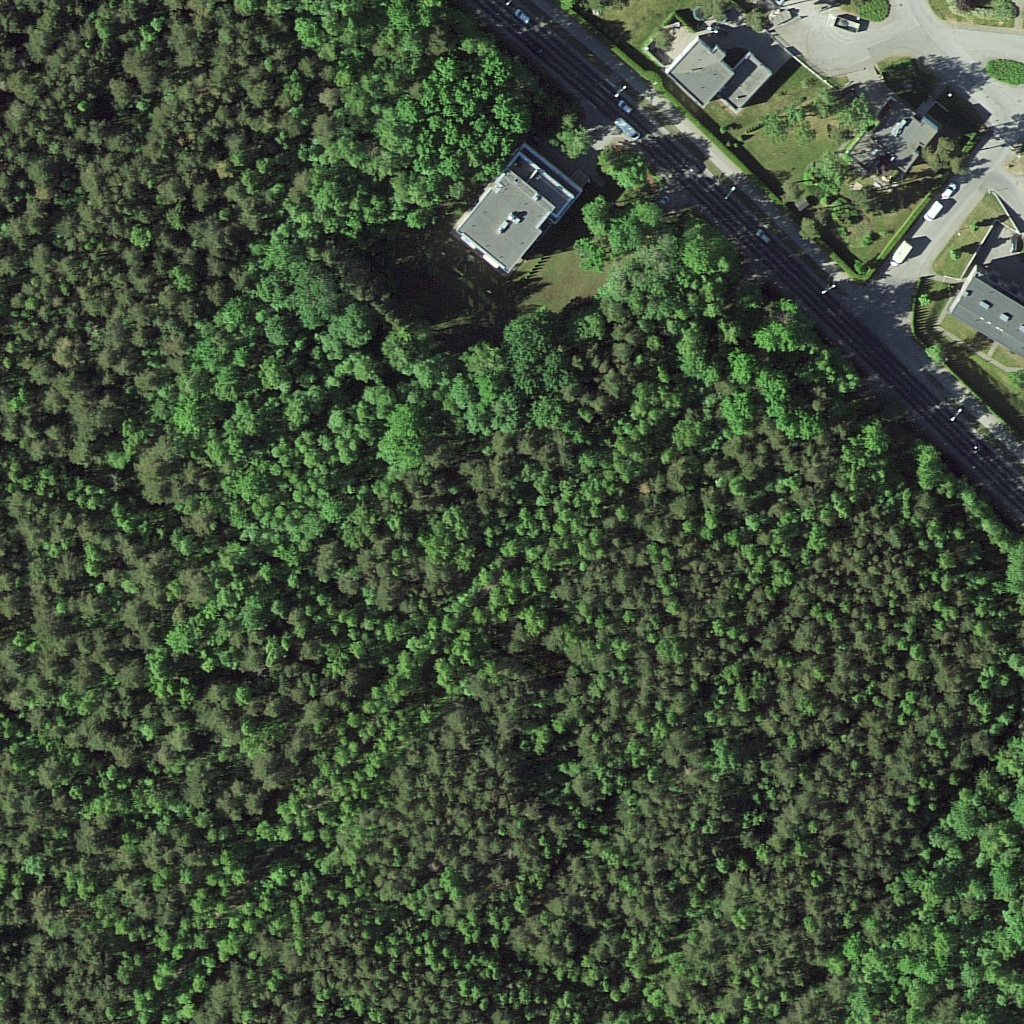building: (449, 172, 562, 275), (944, 271, 1024, 359), (852, 102, 937, 179), (663, 36, 736, 109)
